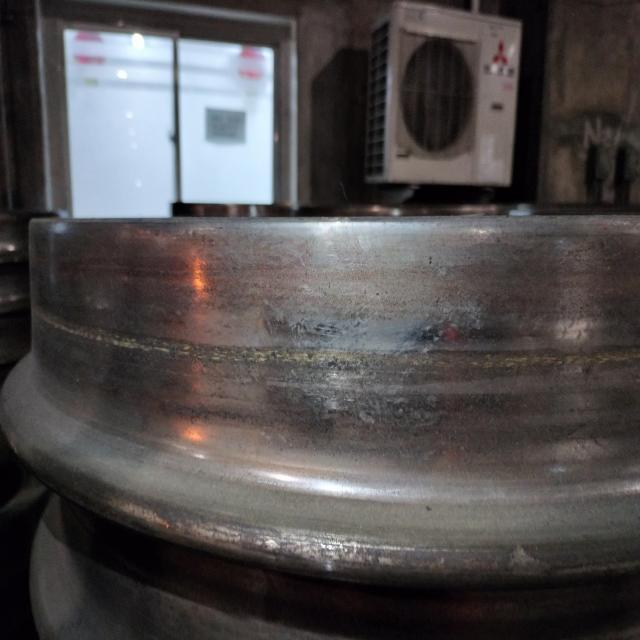Rollerpile: (316, 385, 448, 444)
